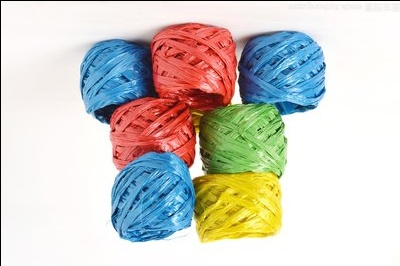9/可回收垃圾/绳子: (110, 152, 196, 242), (151, 22, 237, 111), (239, 30, 328, 115), (198, 105, 289, 178), (191, 172, 283, 243), (79, 38, 154, 125), (109, 97, 197, 170)
